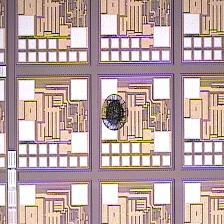PARTICLE: (101, 93, 130, 134)
